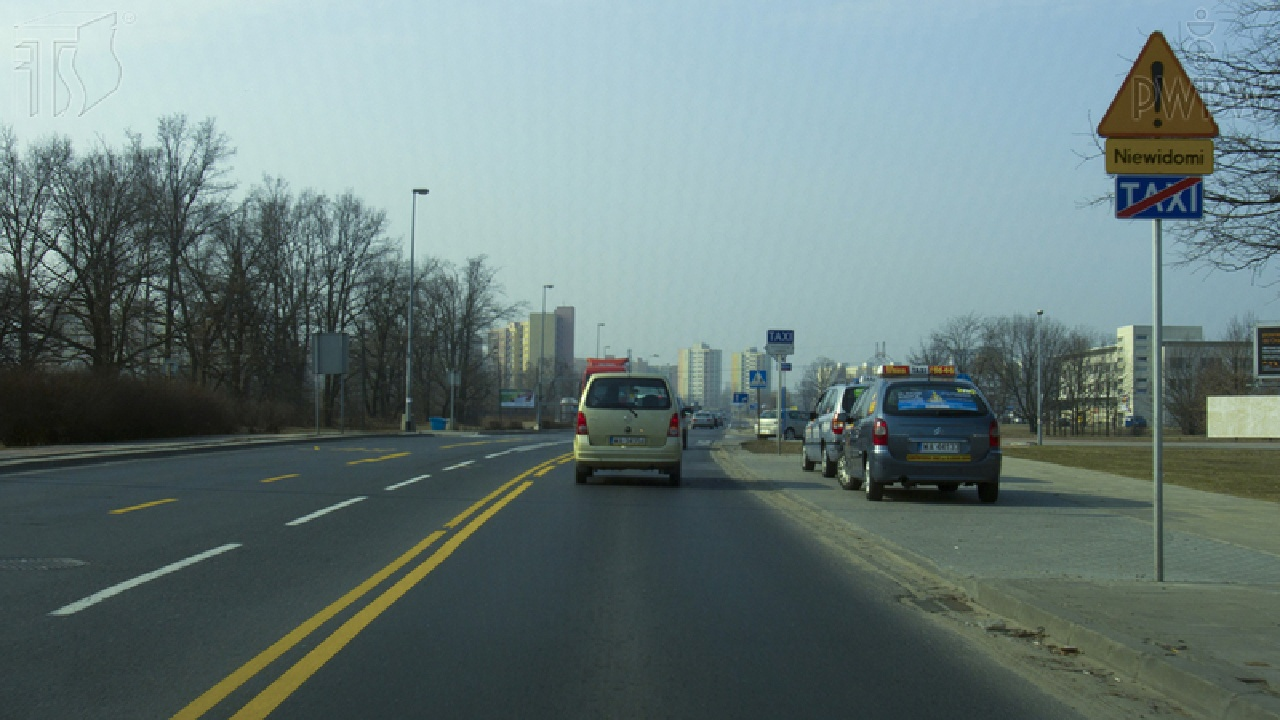A30: (1095, 28, 1221, 136)
